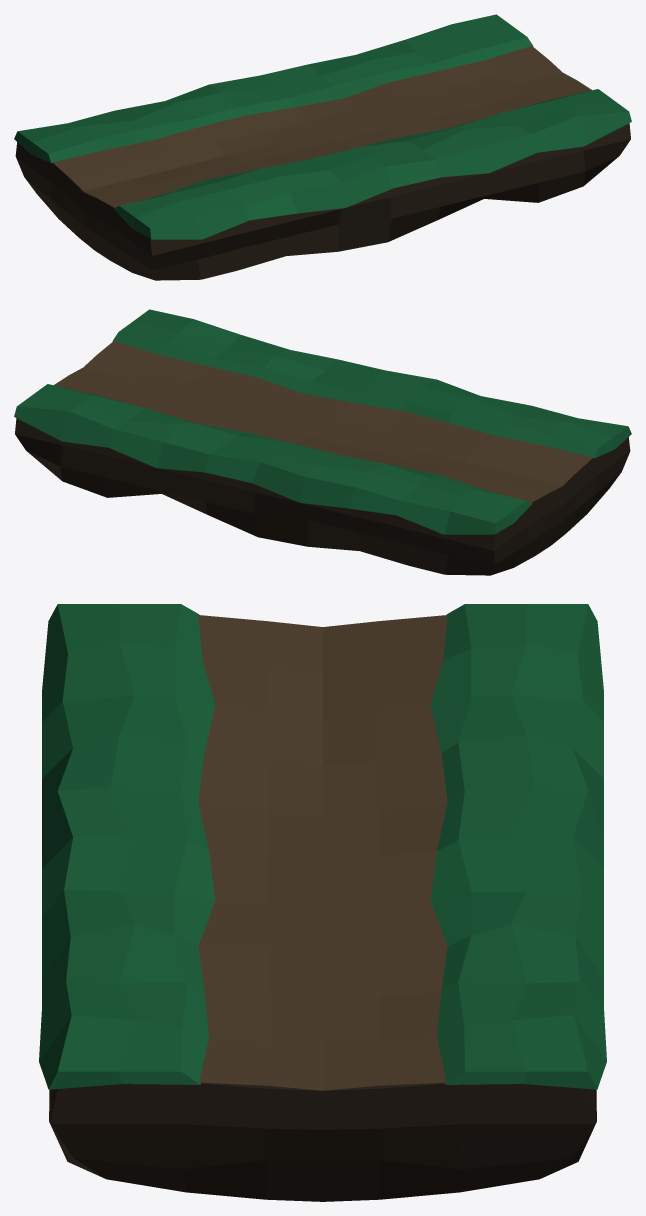
Rendered from platform_8.glb.
3 renders of one model, top to bottom at view 1: azimuth 30°, elevation 25°; view 2: azimuth 150°, elevation 25°; view 3: azimuth 270°, elevation 25°, orthographic. The views are drawn at different scales.
Parts seen in each view (by area): view 1: GrassTop.001, Path.001, DirtBottom.001; view 2: GrassTop.001, Path.001, DirtBottom.001; view 3: GrassTop.001, Path.001, DirtBottom.001.
Boxes of the visible parts, <box> form: GrassTop.001: <box>14,14,631,239</box>; Path.001: <box>53,46,591,207</box>; DirtBottom.001: <box>15,123,630,280</box>; GrassTop.001: <box>14,309,631,534</box>; Path.001: <box>54,341,592,502</box>; DirtBottom.001: <box>15,418,630,575</box>; GrassTop.001: <box>39,604,606,1089</box>; Path.001: <box>198,615,447,1090</box>; DirtBottom.001: <box>49,1082,596,1201</box>.
Bounding box in the file's own units: 8.06 × 1.62 × 4.11.
